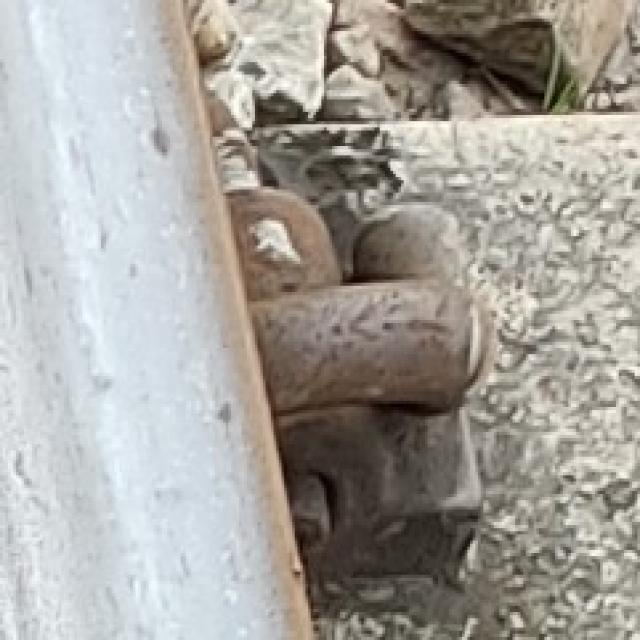track_bolt: (270, 195, 496, 430)
